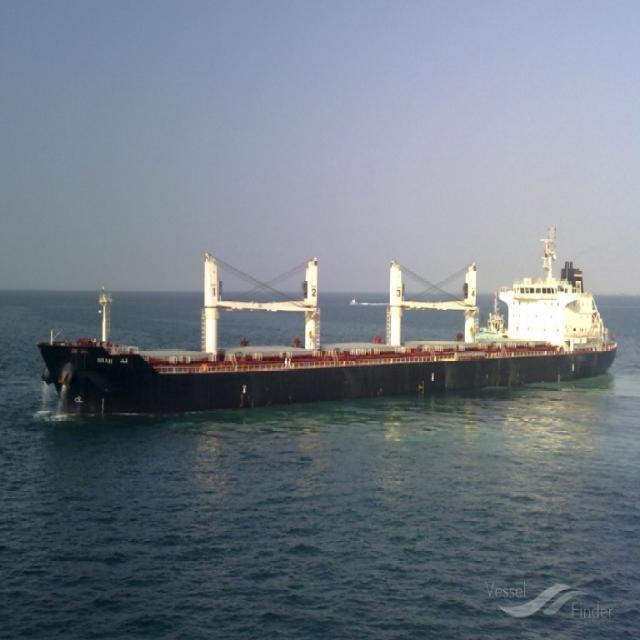OCR: (95, 351, 120, 367)
